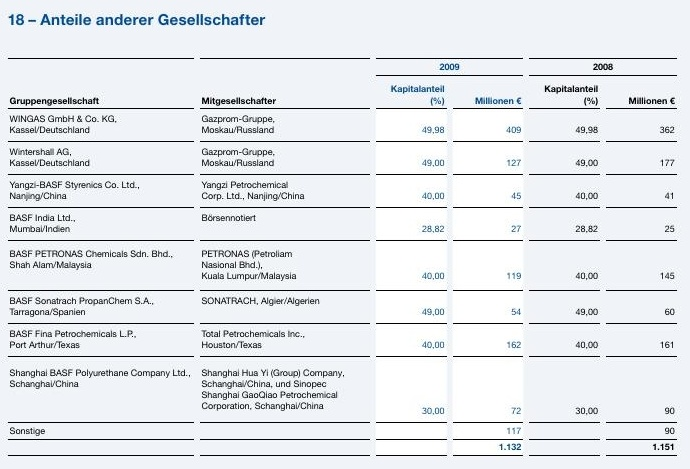table: (0, 0, 690, 469)
